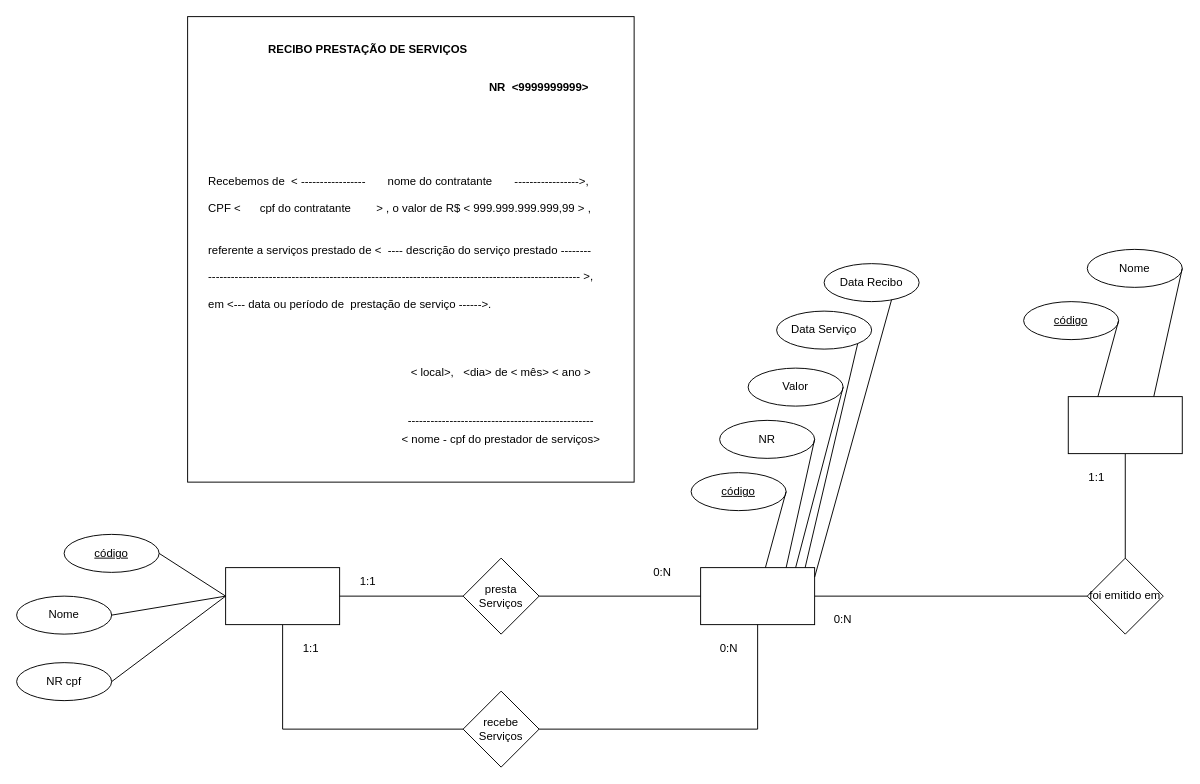
The diagram is 1200 pixels wide and 784 high, and some of its shapes have lost their labels. The centre of each missing label's shape, as x and y in pixels:
Cidade: (x=1124, y=425)
Pessoa Física: (x=282, y=596)
Recibo: (x=757, y=596)
